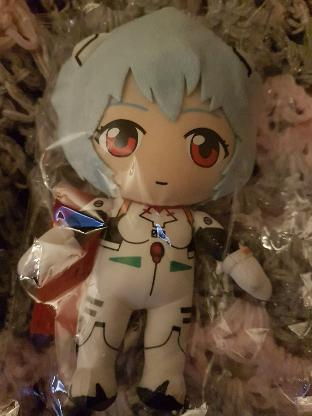rei-plush: (29, 15, 266, 416)
